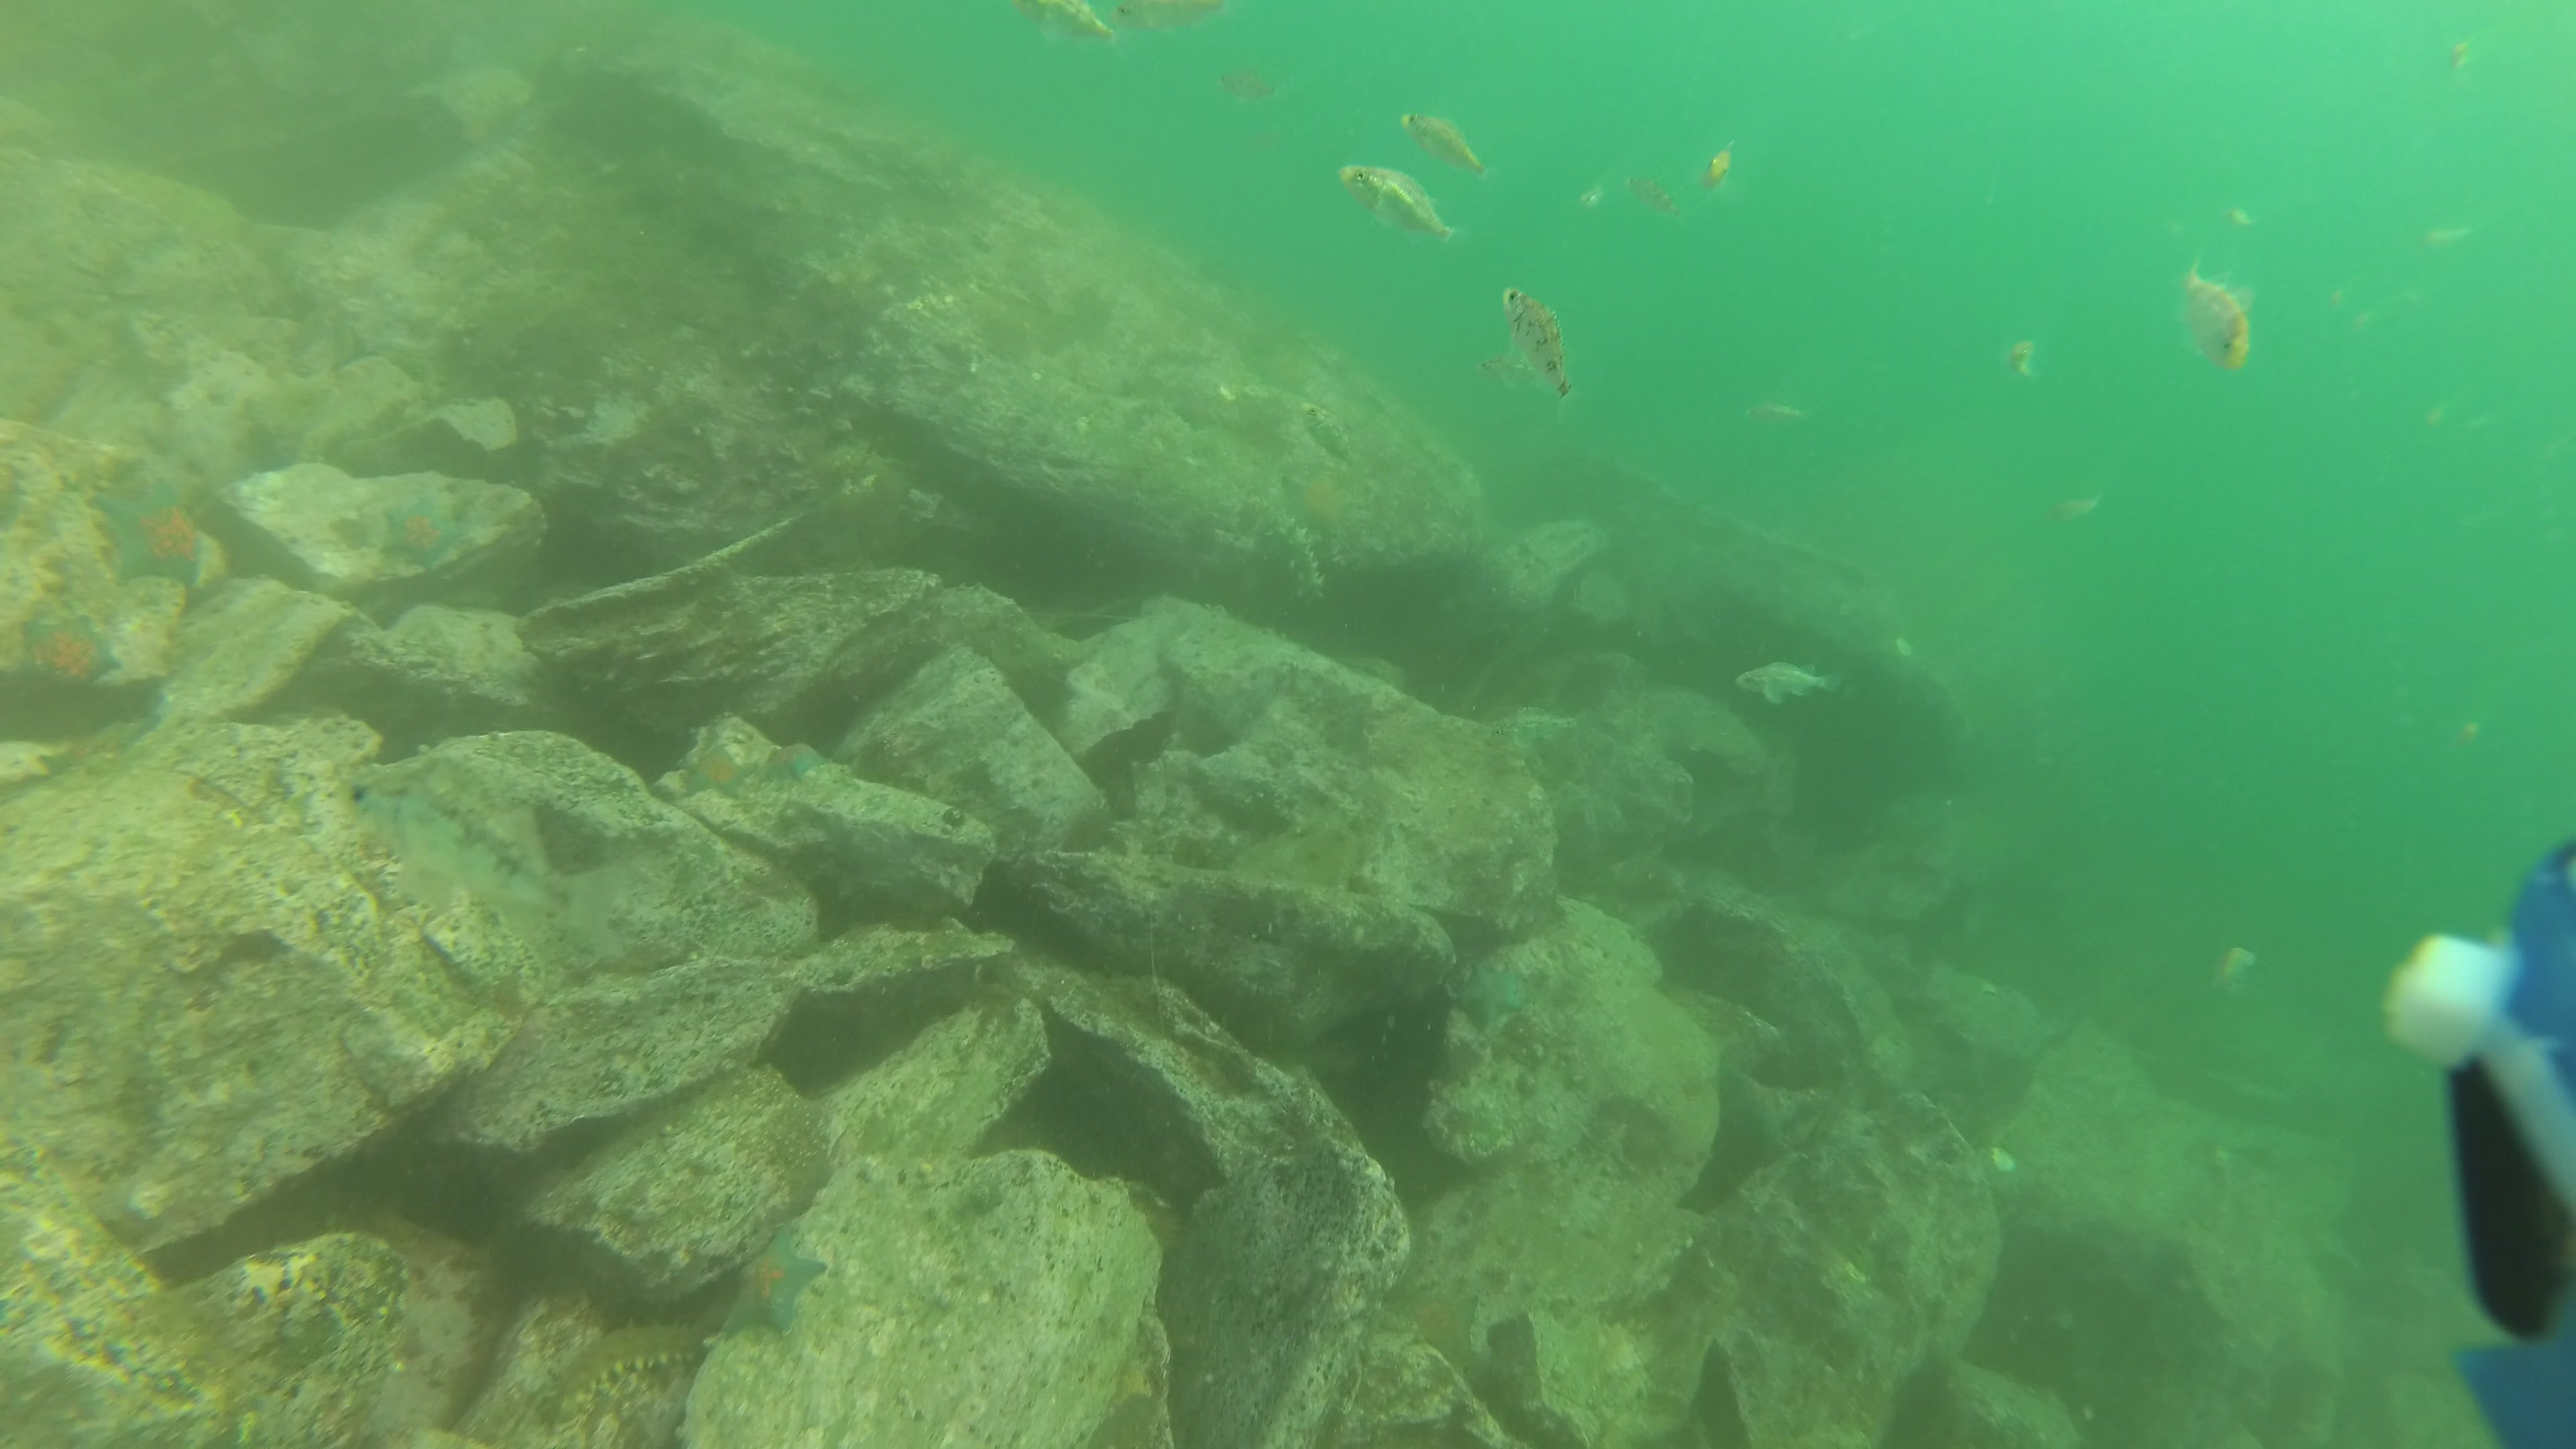holothurian: (527, 1316, 718, 1428), (1258, 501, 1330, 610)
starfish: (83, 472, 212, 596), (715, 1219, 832, 1346), (14, 609, 127, 701), (375, 490, 469, 577), (1405, 1283, 1484, 1369), (1447, 957, 1529, 1037), (678, 738, 757, 809), (754, 738, 839, 793)
